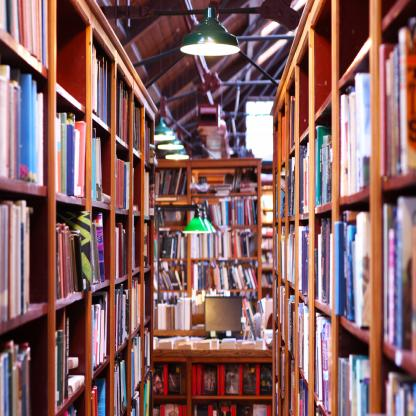book: (274, 17, 416, 416), (0, 63, 43, 185), (55, 204, 106, 296), (0, 198, 33, 322), (1, 0, 51, 67), (54, 317, 86, 408), (189, 258, 258, 296), (54, 106, 82, 198), (0, 336, 30, 416), (151, 334, 269, 352), (152, 292, 205, 328), (90, 42, 112, 128), (190, 230, 252, 259), (90, 300, 110, 376), (211, 196, 257, 225), (211, 167, 260, 194), (92, 134, 110, 204), (20, 71, 31, 181), (114, 351, 130, 415), (113, 221, 130, 280), (153, 170, 188, 198), (116, 73, 129, 146), (115, 279, 129, 340), (116, 154, 130, 212), (132, 329, 144, 396), (155, 263, 184, 290), (160, 229, 185, 258), (143, 166, 156, 219), (168, 364, 186, 396), (198, 364, 216, 396), (92, 370, 104, 416), (258, 360, 271, 398), (224, 365, 240, 394), (132, 279, 141, 329), (242, 362, 256, 394), (288, 96, 296, 146), (134, 105, 142, 154), (143, 331, 151, 376), (129, 390, 141, 416), (153, 368, 162, 402), (145, 221, 151, 270), (280, 115, 286, 162), (212, 402, 232, 416), (145, 118, 151, 163), (132, 168, 138, 212), (143, 380, 150, 416), (252, 398, 266, 416), (192, 402, 208, 416), (259, 276, 276, 289), (162, 402, 177, 416), (237, 402, 252, 416), (258, 254, 271, 270), (260, 242, 275, 254), (133, 227, 136, 274), (152, 402, 162, 416), (260, 227, 271, 239), (262, 192, 270, 208), (143, 282, 146, 322), (261, 212, 273, 221), (159, 209, 163, 227)
